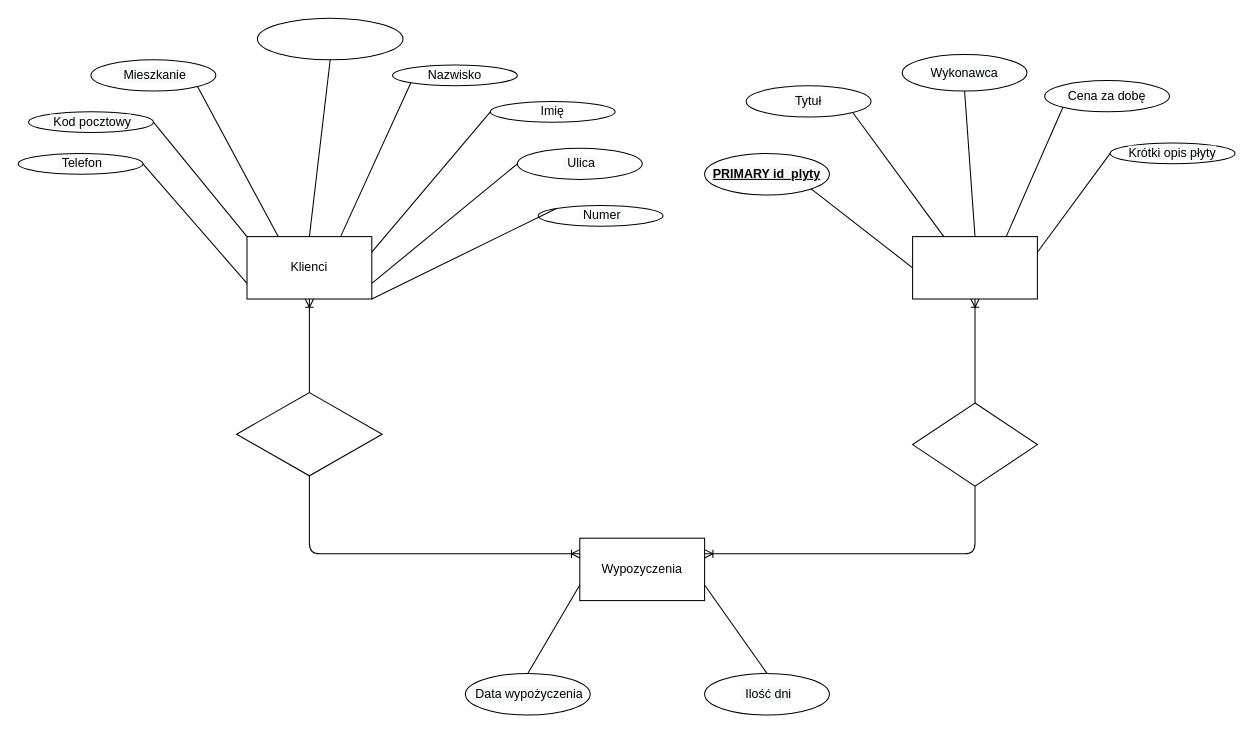
Some shapes in this 1253 by 750 pixel diagram are drawn without their labels. The shapes that lost their labels are listed below. From the top down, each one's centre as x and y in pixels, then its label:
At point 329,38: "PRIMARY id_klienta".
At point 974,267: "Płyty vinylowe".
At point 309,434: "wypożycza".
At point 974,444: "zawiera".
